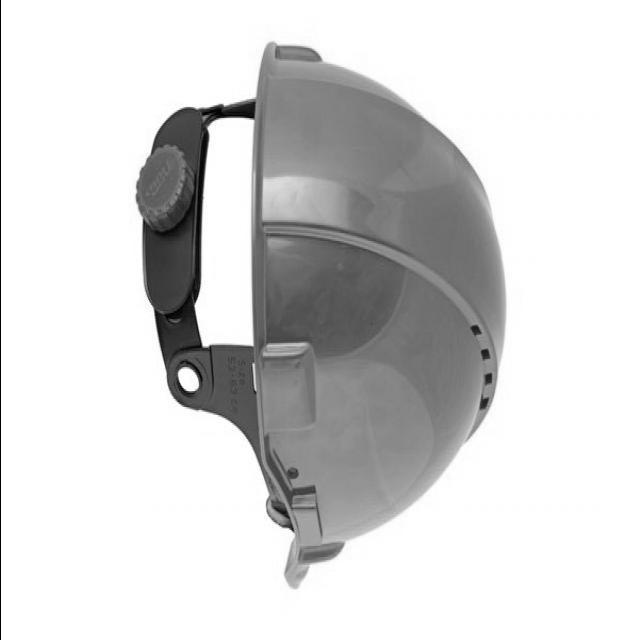safety_helmet: (132, 40, 505, 591)
